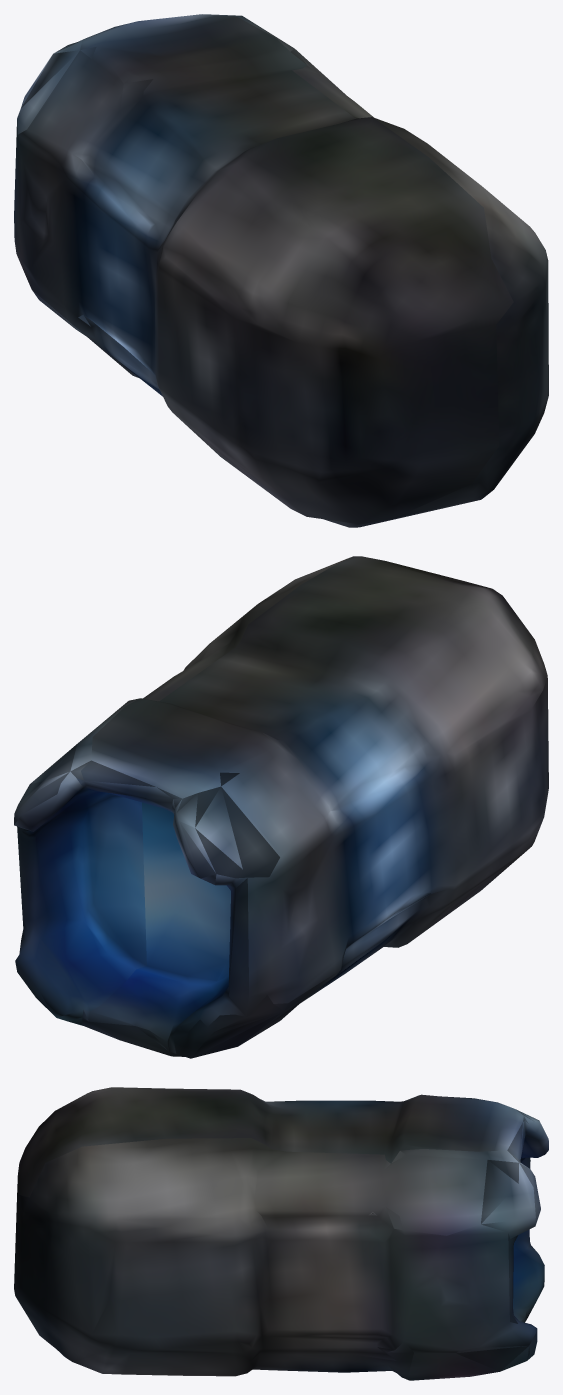
The model's file is cargo_piece_10.glb.
3 views of the same model, one above another, from view 1: azimuth 30°, elevation 25°; view 2: azimuth 150°, elevation 25°; view 3: azimuth 270°, elevation 25° (orthographic). The views are drawn at different scales.
Parts seen in each view (by area): view 1: cargo_10; view 2: cargo_10; view 3: cargo_10.
Boxes of the visible parts, x1,y1,x2,y2 form: cargo_10: (14, 14, 548, 527); cargo_10: (14, 556, 548, 1058); cargo_10: (14, 1087, 548, 1380).
Bounding box in the file's own units: 0.0492 × 0.0485 × 0.0975.
Materials: 1 (1 with a texture image).
